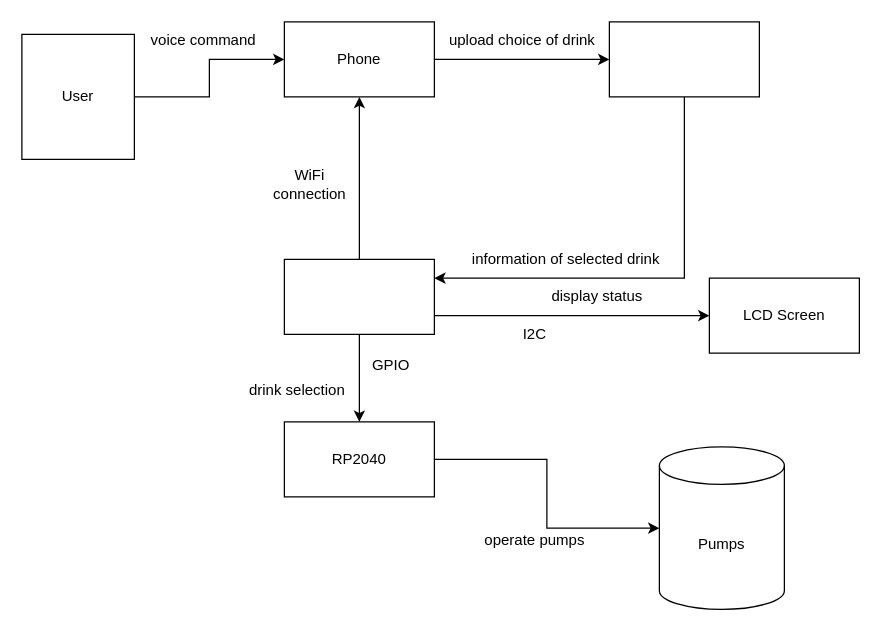
The diagram is 881 pixels wide and 631 high, and some of its shapes have lost their labels. The centre of each missing label's shape, as x and y in pixels:
"ESP32" goes at (x=358, y=296).
"IoT Server" goes at (x=683, y=59).
